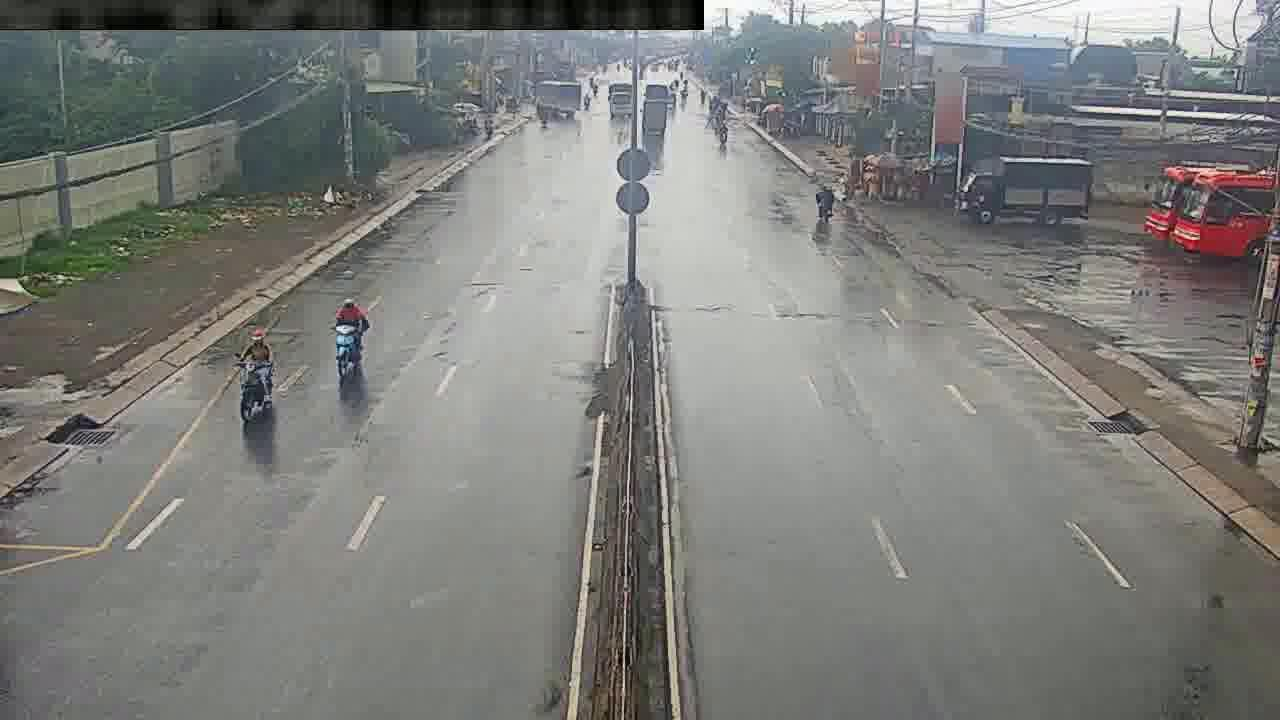8: (535, 77, 585, 122)
motorbike: (236, 324, 278, 422), (332, 297, 371, 389), (817, 178, 835, 226), (716, 106, 729, 140)
